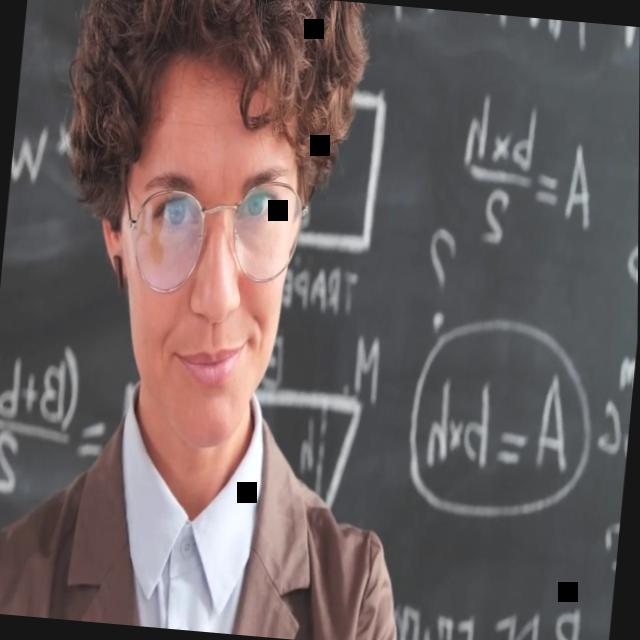NO-Mask: (103, 70, 312, 450)
